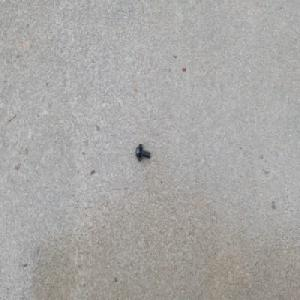BoltWasher: (134, 142, 150, 162)
